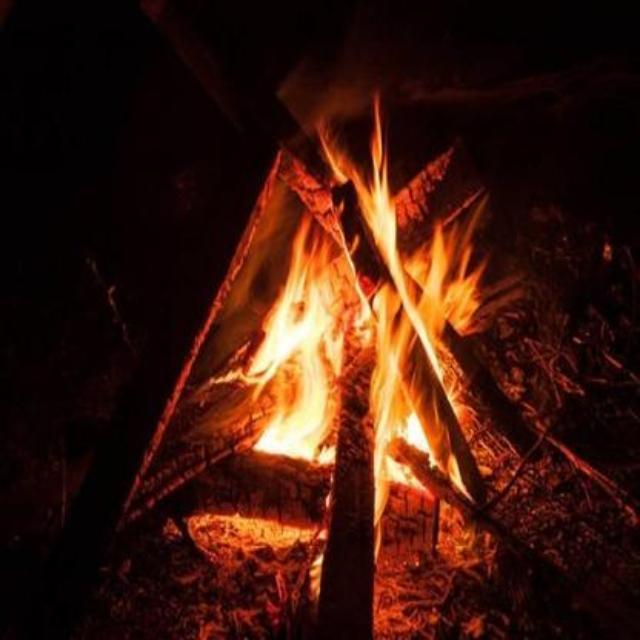Fire: (242, 90, 484, 524)
